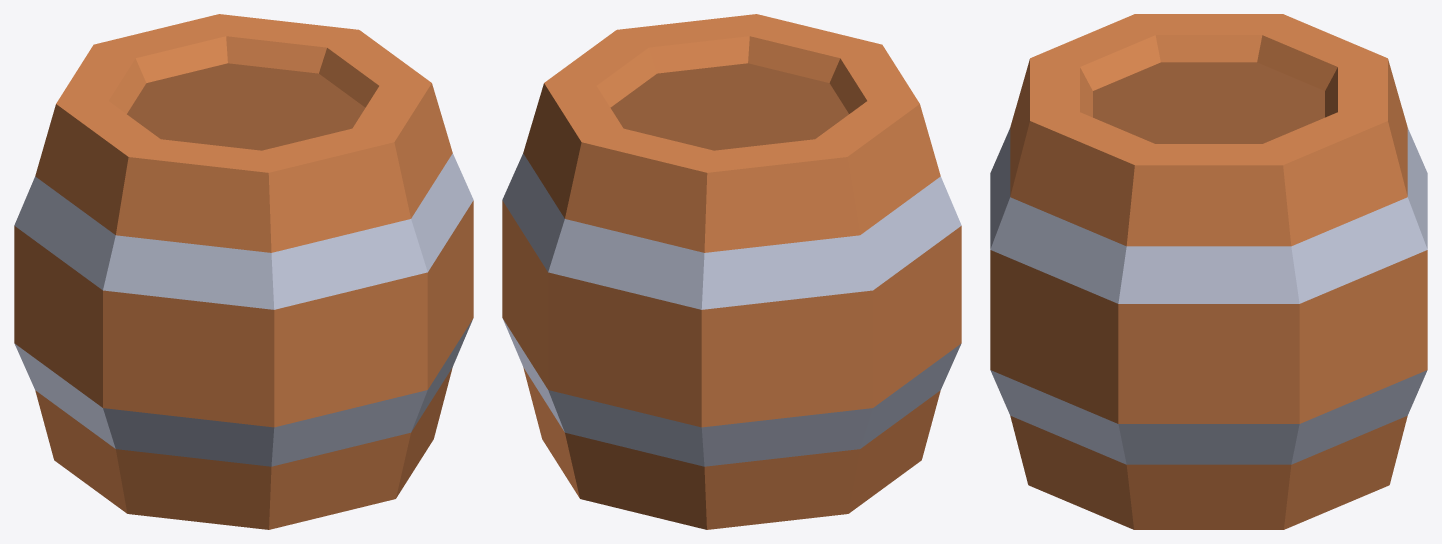
The model's file is d_kenney_tonneau_clair.glb.
3 views of the same model, side by side, from view 1: azimuth 30°, elevation 25°; view 2: azimuth 150°, elevation 25°; view 3: azimuth 270°, elevation 25° (orthographic). The views are drawn at different scales.
Visible parts, largest first — view 1: d_kenney_tonneau_clair; view 2: d_kenney_tonneau_clair; view 3: d_kenney_tonneau_clair.
Boxes of the visible parts, box(x1,y1,x2,y2) form: d_kenney_tonneau_clair: box(14, 14, 473, 529); d_kenney_tonneau_clair: box(502, 14, 961, 529); d_kenney_tonneau_clair: box(990, 14, 1427, 529).
Size of the model in its own units: 0.4358 by 0.4002 by 0.4358.
1 material, 1 textured.
